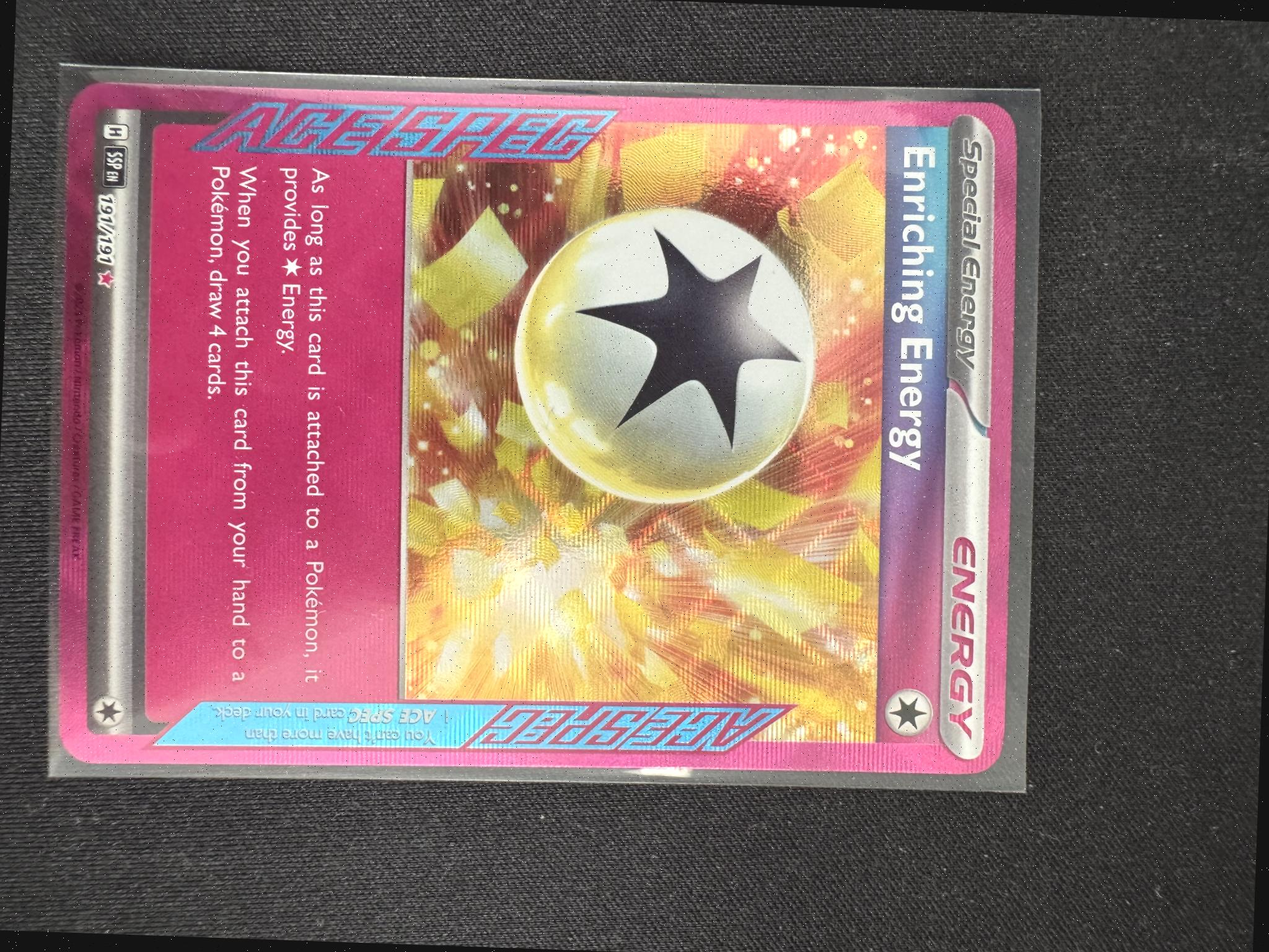card-2UtV: (59, 82, 1018, 775)
